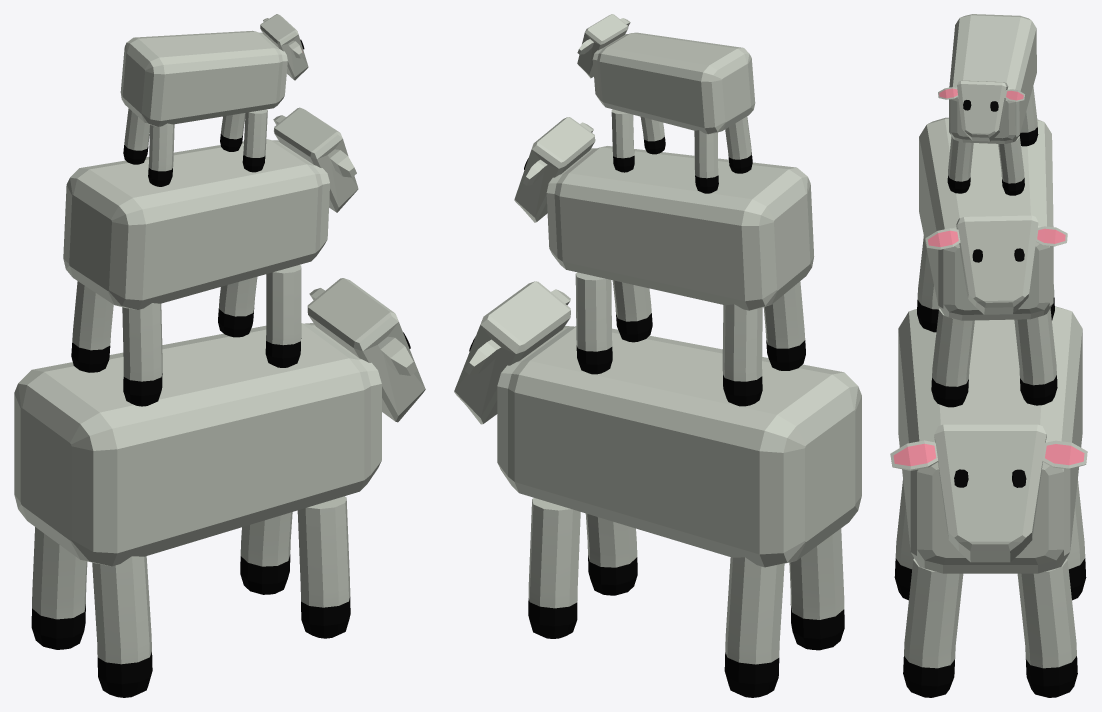
The model's file is Herd.fbx.
The picture shows the model from 3 angles, left to right: view 1: azimuth 30°, elevation 25°; view 2: azimuth 150°, elevation 25°; view 3: azimuth 270°, elevation 25°; orthographic projection. The views are drawn at different scales.
Parts seen in each view (by area): view 1: Herd; view 2: Herd; view 3: Herd.
Part boxes in pixels (<box>): Herd: <box>14,14,425,697</box>; Herd: <box>454,14,861,697</box>; Herd: <box>890,14,1087,697</box>.
Size of the model in its own units: 721 by 1143 by 333.
